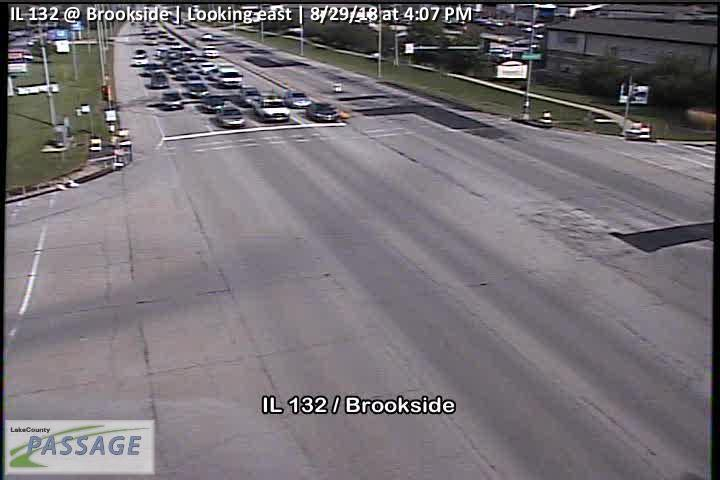Sedan: (306, 100, 337, 122), (216, 106, 247, 128), (284, 90, 312, 108), (159, 90, 184, 109), (239, 82, 259, 103)
